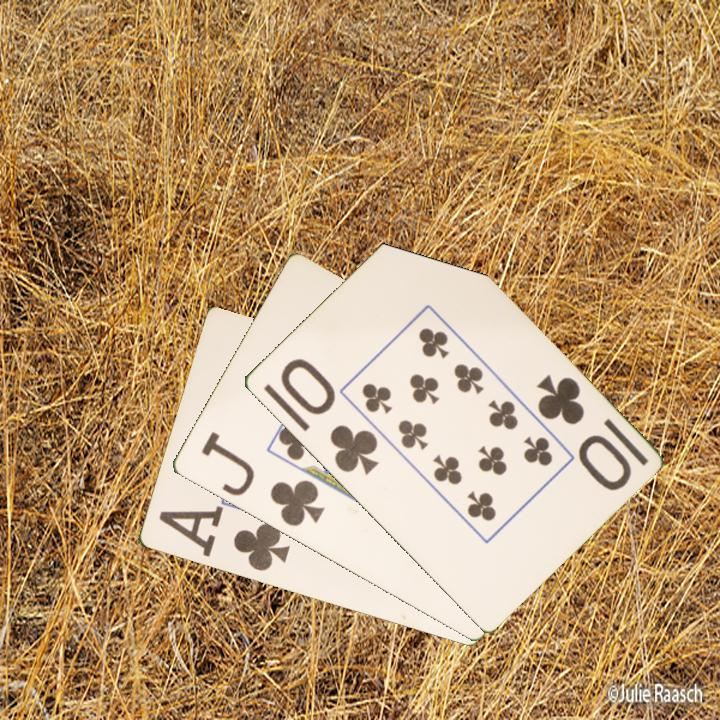10c: (276, 354, 382, 478), (532, 370, 634, 494)
Ac: (154, 504, 293, 575)
Jc: (197, 428, 326, 530)
